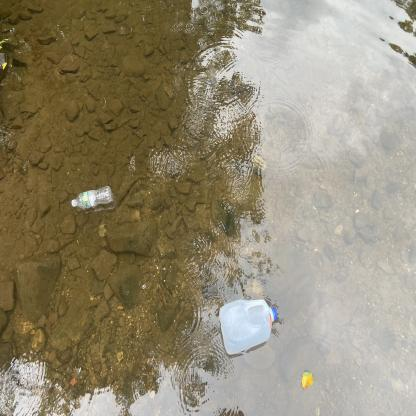trash: (217, 293, 282, 360), (67, 184, 116, 210)
